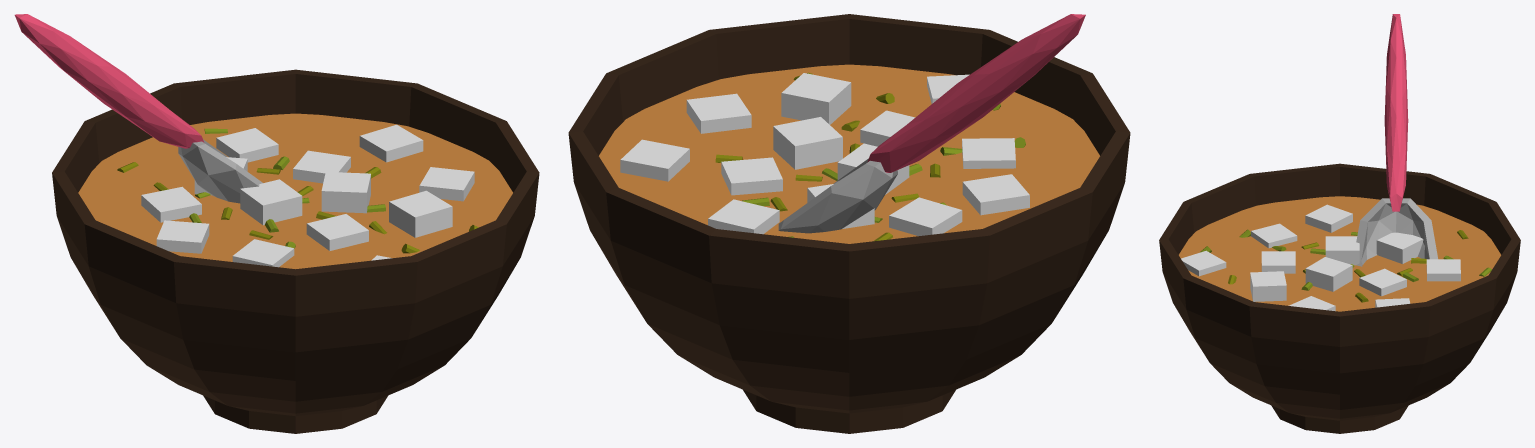
Rendered from Bowl de miso.fbx.
3 renders of one model, left to right at view 1: azimuth 30°, elevation 25°; view 2: azimuth 150°, elevation 25°; view 3: azimuth 270°, elevation 25°, orthographic. The views are drawn at different scales.
Parts seen in each view (by area): view 1: Sopa_miso; view 2: Sopa_miso; view 3: Sopa_miso.
Part boxes in pixels (box(x1,y1,x2,y2)): Sopa_miso: box(14, 14, 539, 433); Sopa_miso: box(568, 14, 1130, 433); Sopa_miso: box(1159, 14, 1520, 433).
Bounding box in the file's own units: 31056 × 27317 × 29015.
